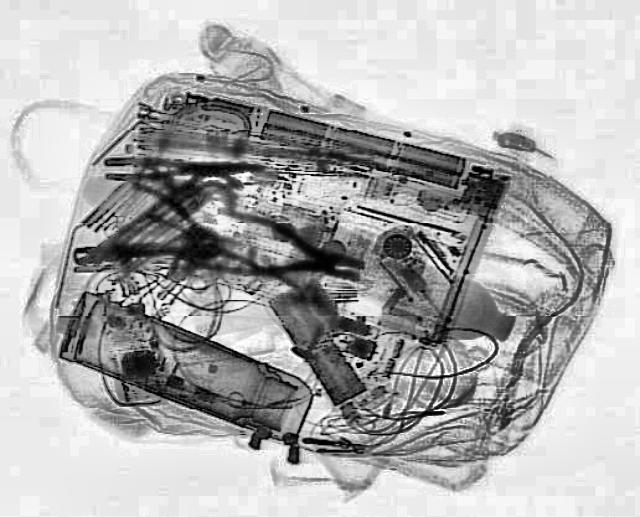Pliers: (188, 204, 370, 300), (102, 154, 246, 180)
